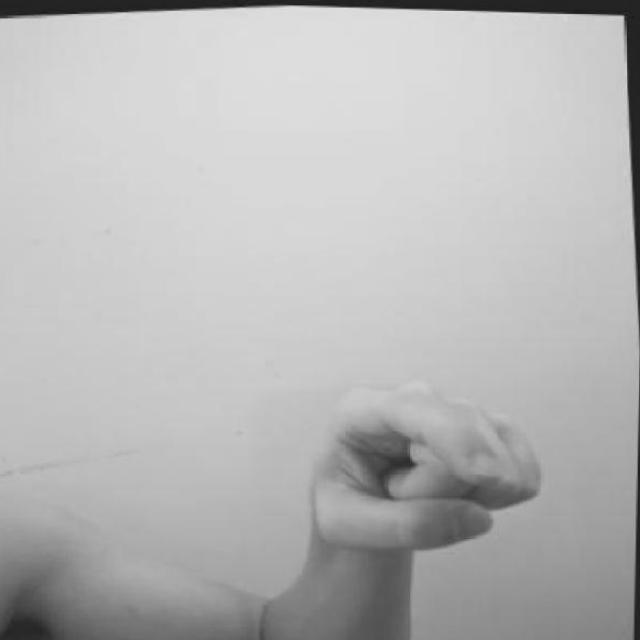Z: (297, 373, 552, 566)
